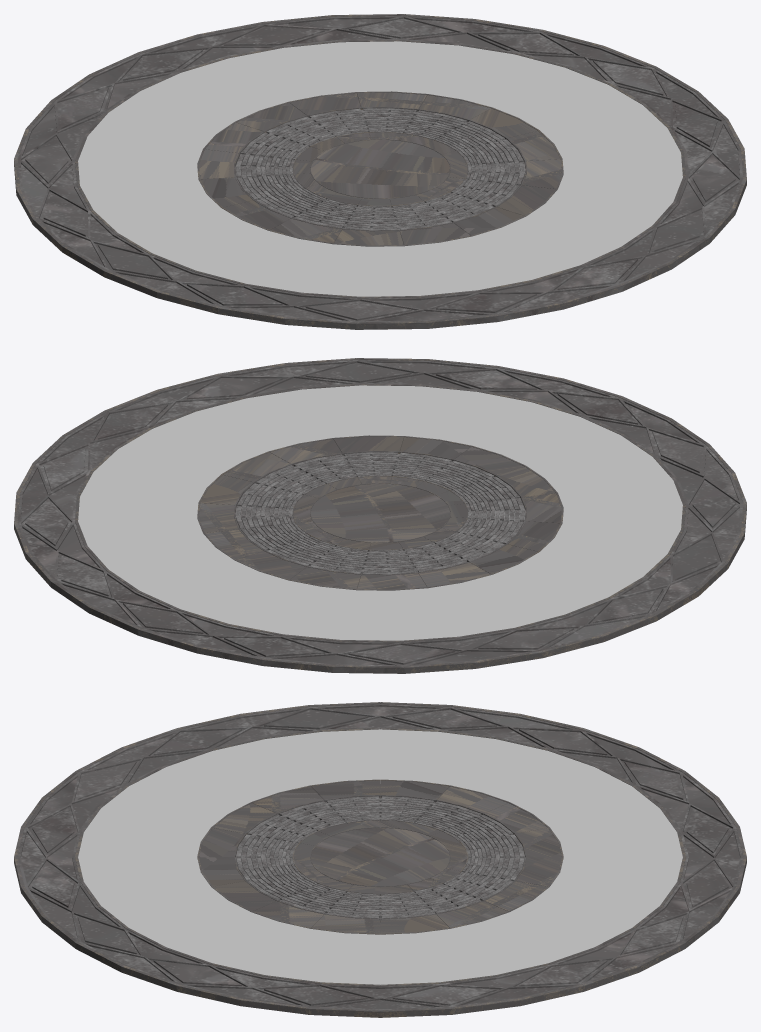
The model's file is BossRoomField.fbx.
3 renders of one model, top to bottom at view 1: azimuth 30°, elevation 25°; view 2: azimuth 150°, elevation 25°; view 3: azimuth 270°, elevation 25°, orthographic.
Visible parts, largest first — view 1: Field; view 2: Field; view 3: Field.
Boxes of the visible parts, left/top/right/bottom form: Field: left=14, top=14, right=746, bottom=329; Field: left=14, top=358, right=746, bottom=673; Field: left=14, top=702, right=746, bottom=1017.
Size of the model in its own units: 22954 by 710 by 22954.
